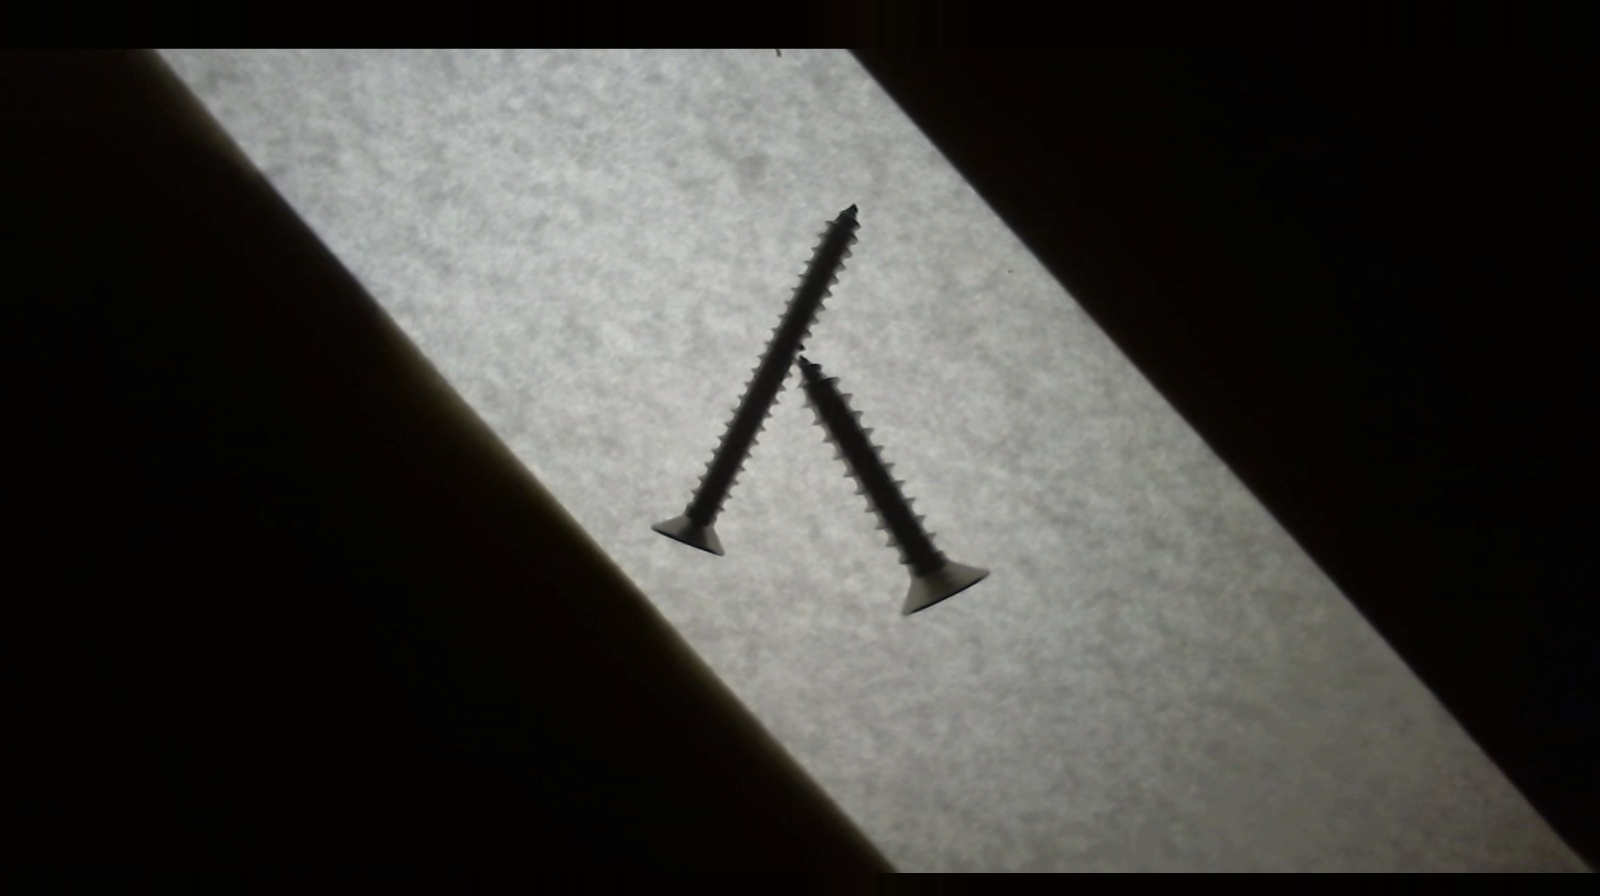S001: (791, 351, 996, 619)
S002: (651, 203, 868, 561)
